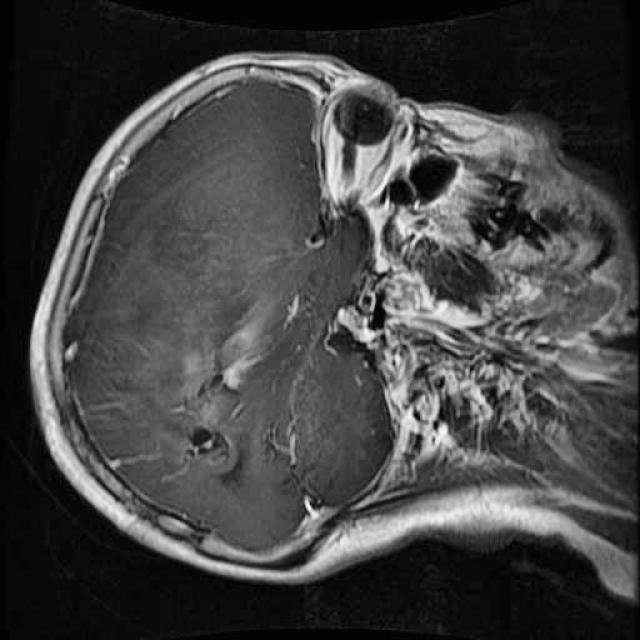Tumor: (160, 229, 319, 422)
